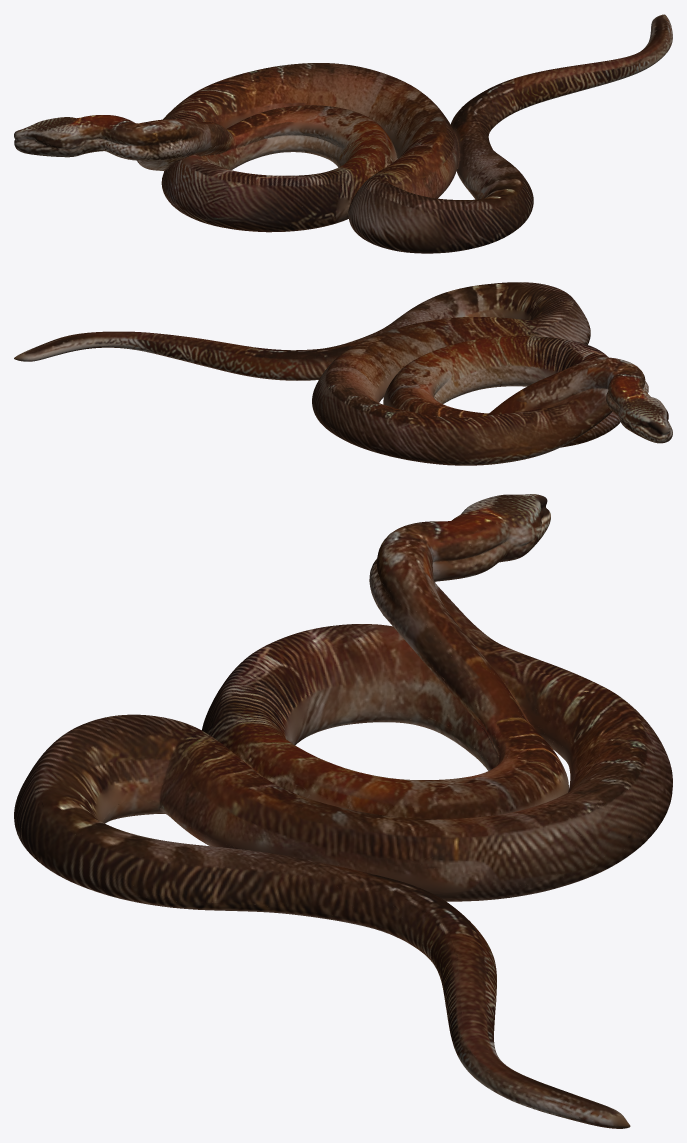
3 views of the same model, one above another, from view 1: azimuth 30°, elevation 25°; view 2: azimuth 150°, elevation 25°; view 3: azimuth 270°, elevation 25° (orthographic). The views are drawn at different scales.
Parts seen in each view (by area): view 1: Animal; view 2: Animal; view 3: Animal.
Boxes of the visible parts, <box> form: Animal: <box>14,14,672,253</box>; Animal: <box>14,282,672,465</box>; Animal: <box>14,494,672,1128</box>.
Bounding box in the file's own units: 3.2 × 0.4082 × 1.7.
1 material, 1 textured.
